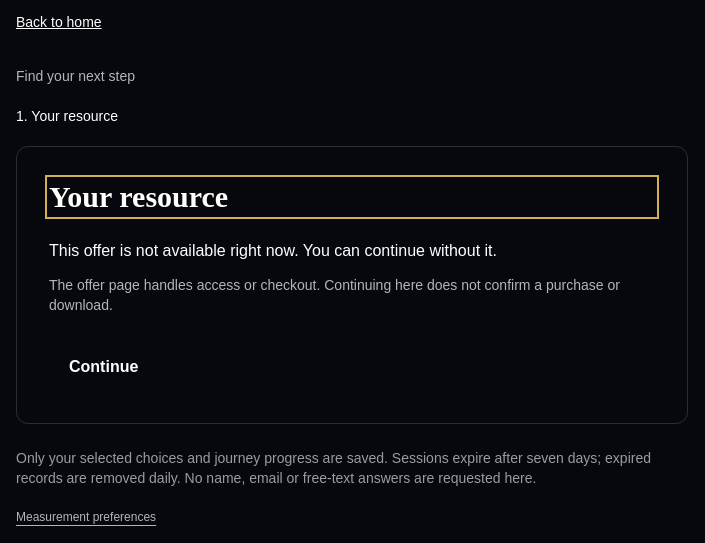
public journey runner › never links a retired offer and lets visitors continue without it
Expected: the text "not available right now" is shown, [49,242,497,259]
What coordinates should you click on to do the following:
click the button "Continue"
I would click on:
 (104, 367)
Its box is [49,343,158,391].
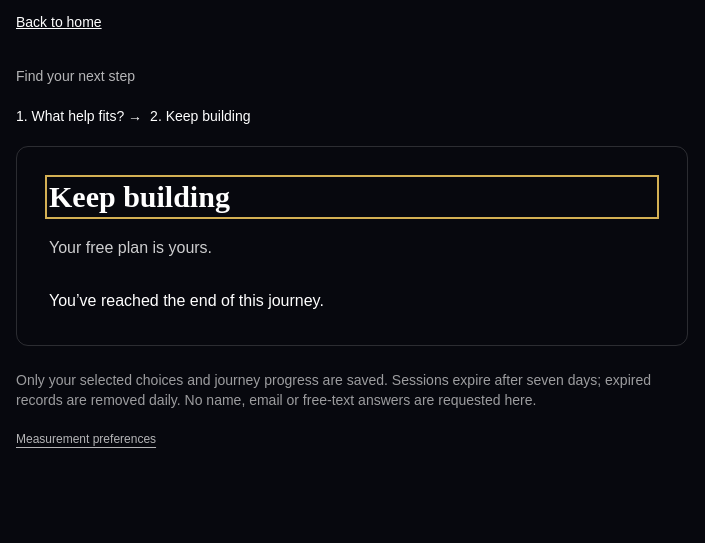
Result: the heading "Keep building" is shown at [49,180,230,213]
